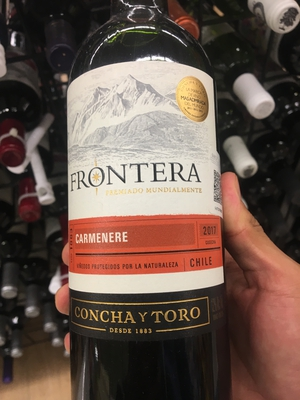frontera carmenere: (49, 6, 234, 381)
